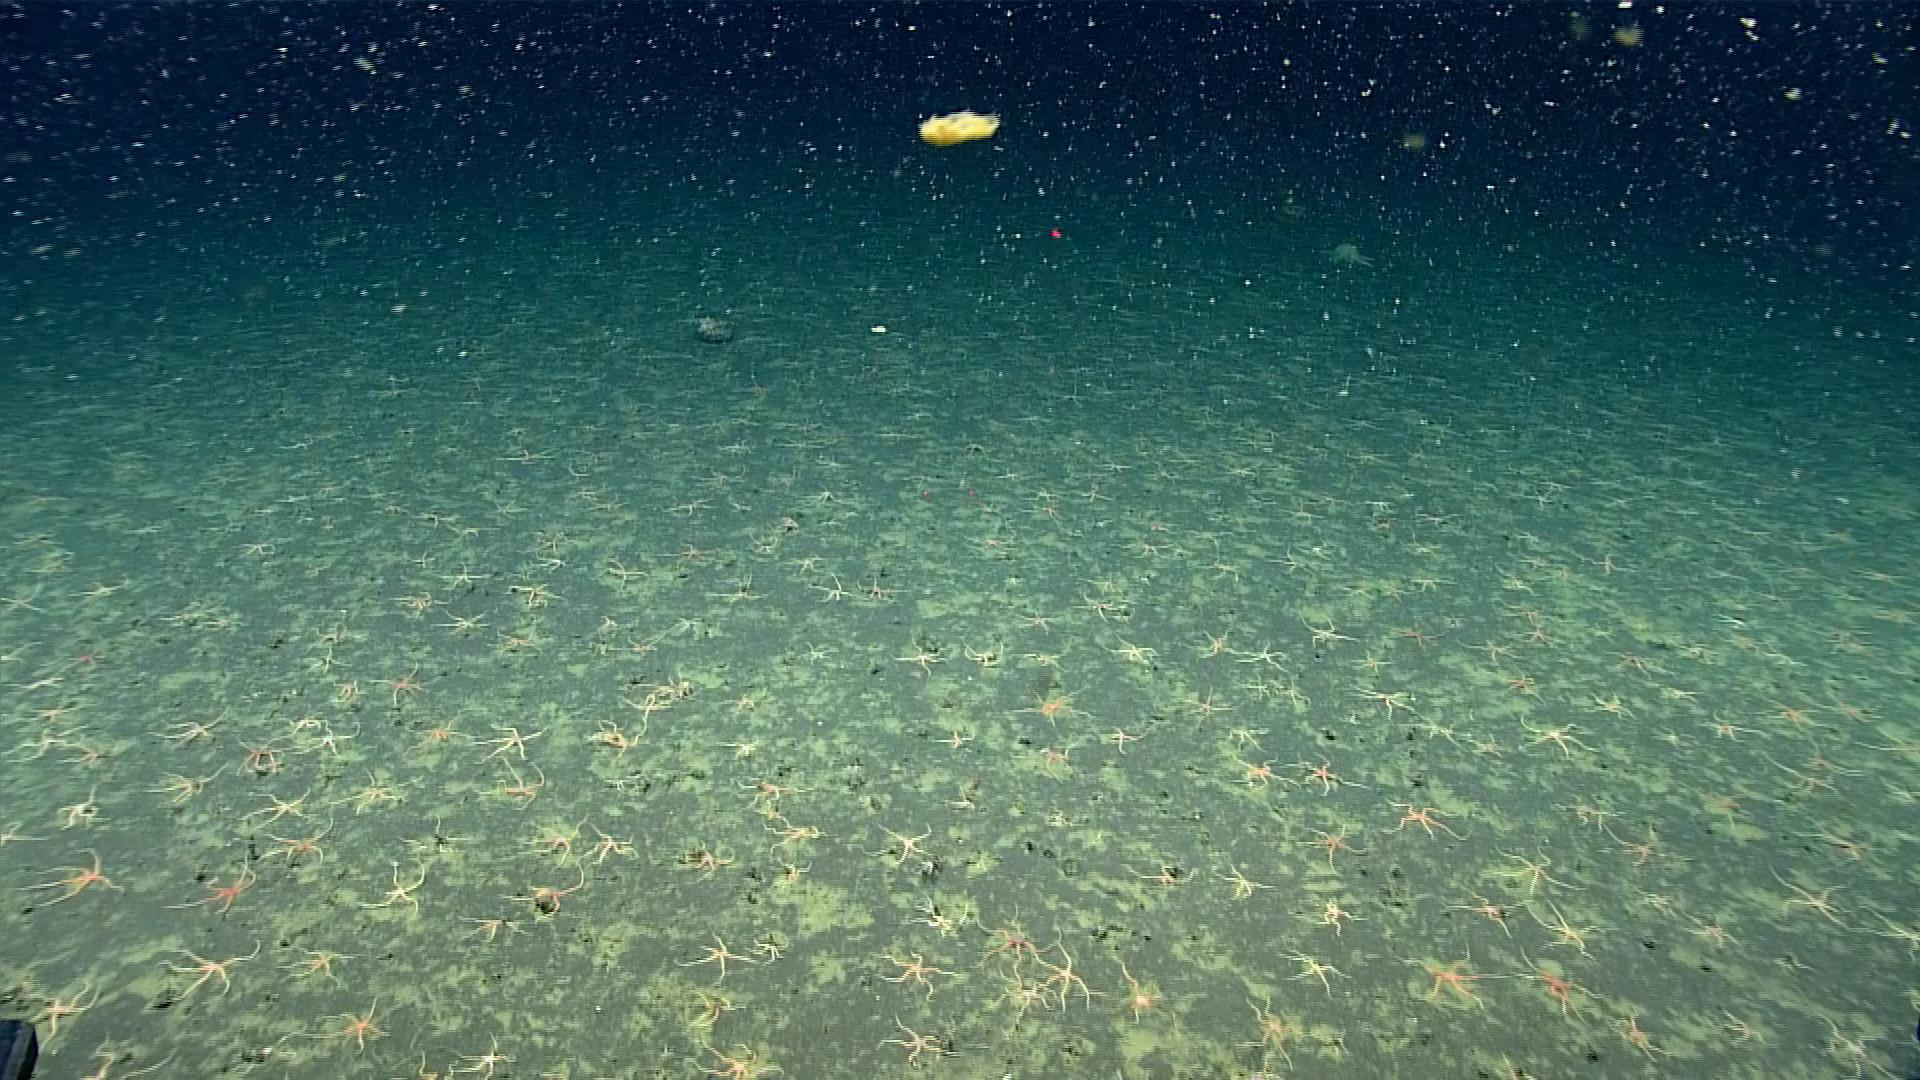brittle_sea_star: (1391, 939, 1510, 1014), (1515, 943, 1601, 1029), (160, 938, 264, 1002), (17, 847, 128, 906), (165, 849, 258, 916), (20, 978, 107, 1048), (1489, 840, 1592, 897), (973, 903, 1054, 975), (1815, 1013, 1902, 1075), (1531, 897, 1613, 963), (1770, 864, 1850, 927), (309, 994, 389, 1052), (1444, 885, 1528, 939), (873, 952, 964, 1002), (673, 932, 760, 984), (1383, 794, 1472, 844), (326, 767, 418, 815), (1238, 994, 1296, 1069), (1589, 824, 1679, 869), (872, 1013, 959, 1059), (1033, 940, 1088, 1011), (505, 873, 583, 923), (989, 967, 1052, 1027), (1112, 957, 1168, 1025), (255, 819, 334, 866), (1276, 948, 1350, 998), (357, 864, 426, 916), (1857, 902, 1919, 960), (1763, 757, 1838, 804), (872, 822, 939, 874), (480, 758, 549, 810), (1518, 716, 1598, 760), (1295, 822, 1365, 870), (146, 762, 227, 804), (144, 709, 229, 749), (278, 944, 356, 988), (448, 1029, 514, 1079), (1011, 687, 1092, 728), (695, 1035, 770, 1079), (1796, 819, 1873, 861), (525, 819, 585, 872), (1226, 753, 1298, 796), (400, 814, 471, 857), (516, 1046, 609, 1079), (731, 775, 812, 812), (1286, 756, 1360, 796), (1614, 1011, 1672, 1063), (397, 712, 471, 752), (1862, 727, 1919, 778), (59, 1043, 141, 1079), (248, 786, 316, 828), (1, 728, 74, 767), (369, 659, 429, 707), (475, 721, 546, 761), (909, 893, 969, 939), (1340, 678, 1410, 717), (758, 816, 828, 855), (1171, 684, 1236, 725), (57, 782, 112, 829), (891, 636, 948, 680), (1216, 862, 1279, 902), (459, 910, 531, 944), (436, 555, 502, 592), (686, 989, 742, 1031), (654, 539, 717, 575), (585, 717, 646, 754), (375, 1052, 459, 1079), (1296, 612, 1356, 649), (297, 724, 360, 758), (711, 571, 766, 608), (392, 587, 454, 620), (1445, 637, 1515, 666), (591, 824, 638, 866), (1685, 914, 1739, 951), (1698, 786, 1749, 825), (1593, 647, 1655, 679), (1196, 629, 1263, 658), (1313, 899, 1366, 936), (618, 691, 675, 725), (1387, 613, 1444, 647), (1722, 1011, 1772, 1050), (592, 556, 647, 591), (1101, 629, 1156, 663), (1807, 746, 1859, 782), (1564, 798, 1617, 832), (439, 605, 493, 638), (1698, 713, 1754, 745), (495, 624, 543, 658), (0, 582, 50, 615), (961, 530, 1021, 558), (1406, 717, 1460, 748), (1298, 1026, 1349, 1058), (1137, 864, 1195, 891), (0, 818, 53, 848), (638, 674, 699, 700), (505, 582, 562, 609), (1236, 640, 1290, 669), (1766, 698, 1813, 731), (1830, 696, 1882, 727), (1581, 691, 1630, 723), (71, 578, 124, 607), (1726, 636, 1787, 661), (530, 546, 580, 576), (1636, 887, 1684, 919), (682, 845, 733, 874), (1270, 495, 1321, 524), (1820, 626, 1871, 655), (1072, 591, 1118, 622), (24, 702, 88, 724), (1112, 537, 1172, 560), (1502, 592, 1544, 625), (1017, 501, 1067, 529), (305, 650, 352, 679), (1033, 745, 1072, 779), (1199, 546, 1240, 579), (1267, 546, 1311, 576), (858, 572, 902, 601), (959, 636, 1002, 665), (1275, 679, 1313, 712), (243, 736, 282, 767), (748, 935, 787, 967), (1586, 551, 1634, 578), (1108, 725, 1149, 754), (1338, 651, 1391, 674), (1017, 650, 1072, 671), (488, 446, 555, 463), (1017, 608, 1060, 634), (8, 673, 70, 691), (812, 574, 853, 601), (715, 735, 760, 758), (161, 605, 206, 629), (59, 745, 109, 766), (1465, 731, 1505, 757), (930, 727, 976, 749), (1390, 533, 1436, 555), (309, 624, 357, 645), (1652, 683, 1704, 703), (798, 640, 836, 666), (617, 634, 662, 657), (1299, 537, 1335, 564), (446, 522, 498, 541), (783, 553, 825, 575), (1671, 637, 1710, 661), (1073, 483, 1113, 506), (1225, 727, 1266, 749), (1651, 725, 1692, 748), (775, 857, 810, 884), (1519, 625, 1559, 647), (692, 468, 744, 485), (327, 676, 360, 703), (71, 645, 109, 667), (771, 509, 807, 533), (1091, 571, 1126, 595), (1238, 674, 1270, 700), (195, 605, 232, 628), (1505, 671, 1538, 696), (1408, 575, 1456, 592), (1375, 580, 1410, 604), (1415, 509, 1458, 527), (1705, 563, 1745, 583), (750, 530, 781, 555), (121, 521, 167, 537), (281, 715, 326, 731), (1230, 1067, 1290, 1079), (815, 455, 856, 472), (724, 691, 757, 712), (948, 786, 975, 812), (1584, 620, 1614, 642), (410, 510, 456, 525), (669, 498, 711, 514), (1218, 463, 1261, 479), (806, 488, 844, 505), (1520, 491, 1559, 508), (239, 541, 274, 558), (535, 531, 567, 550), (593, 615, 621, 636), (409, 549, 436, 567), (1902, 984, 1919, 1013), (585, 638, 611, 658), (571, 488, 603, 501), (996, 468, 1017, 483), (1110, 1068, 1125, 1079)
